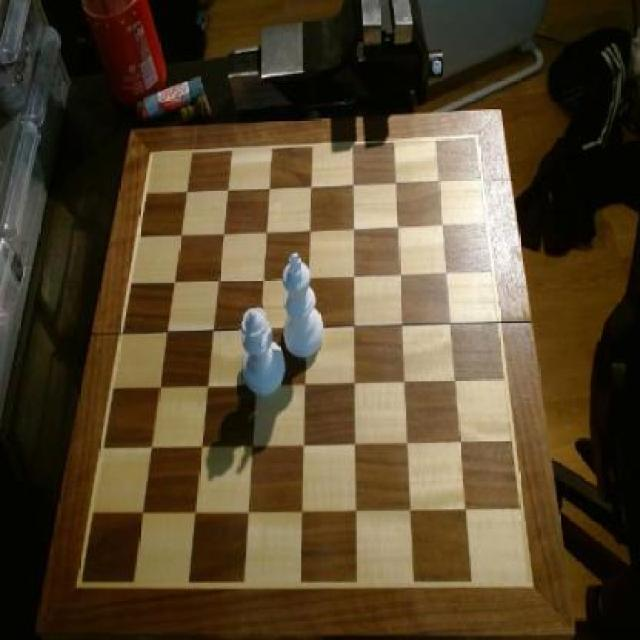white-bishop: (280, 251, 326, 361)
white-pawn: (238, 306, 287, 399)
